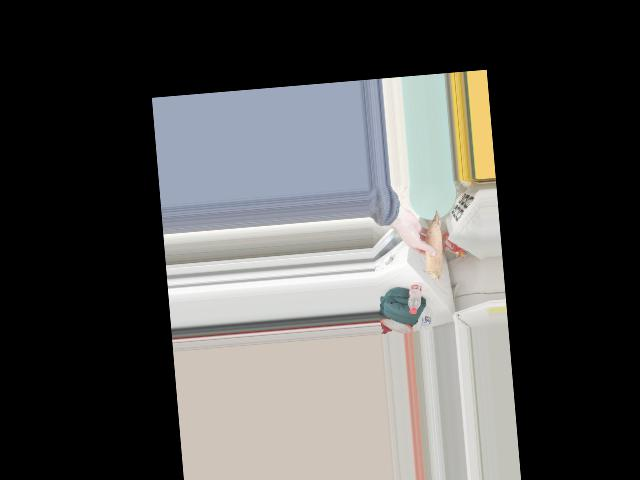sweet_potato: (417, 211, 444, 274)
